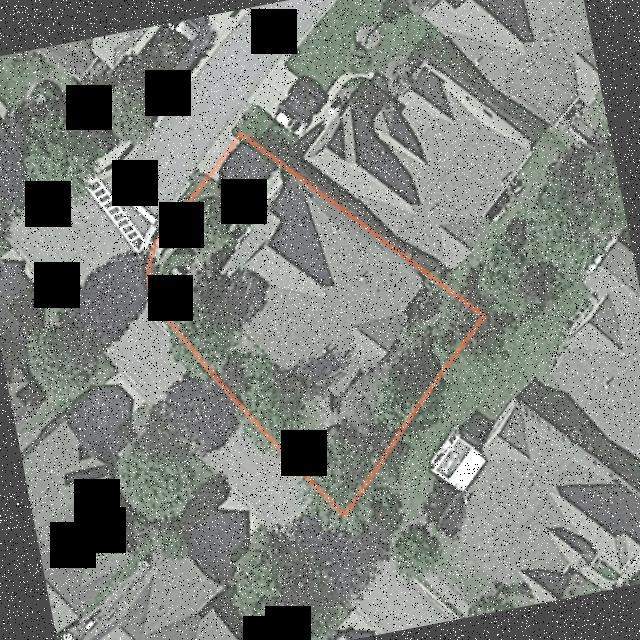Driveway: (212, 141, 274, 204)
Extra Driveway: (197, 130, 234, 173)
House: (200, 176, 419, 403)
